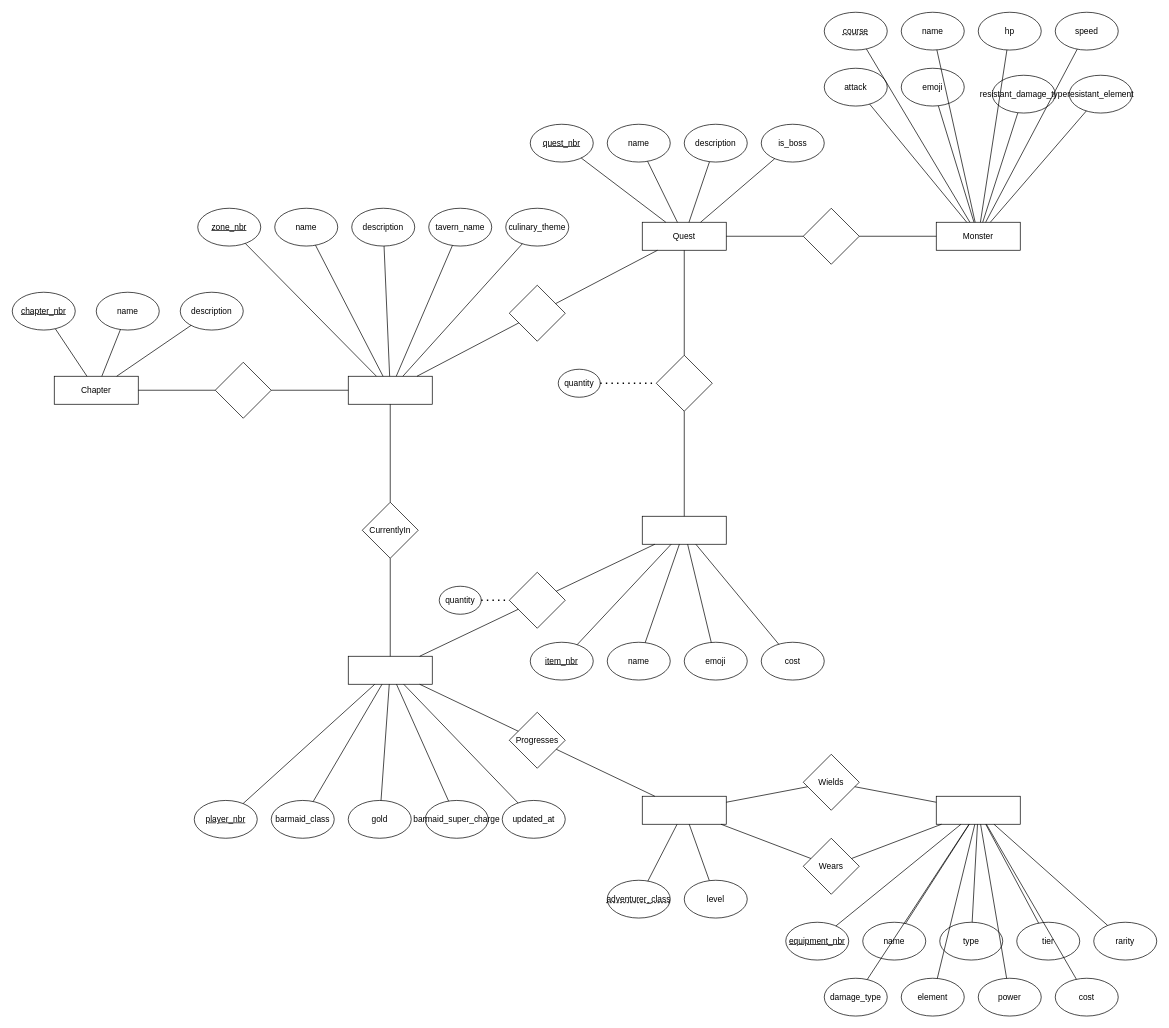
Image size: 1169x1028. Some labels were removed from this diagram. The centre of each missing label's shape, as x and y in pixels:
"BelongsTo" goes at pixel 243 390.
"Drops" goes at pixel 684 383.
"Equipment" goes at pixel 978 810.
"Has" goes at pixel 831 236.
"Item" goes at pixel 684 530.
"LocatedIn" goes at pixel 537 313.
"Player" goes at pixel 390 670.
"PlayerAdventurer" goes at pixel 684 810.
"Stocks" goes at pixel 537 600.
"Zone" goes at pixel 390 390.
